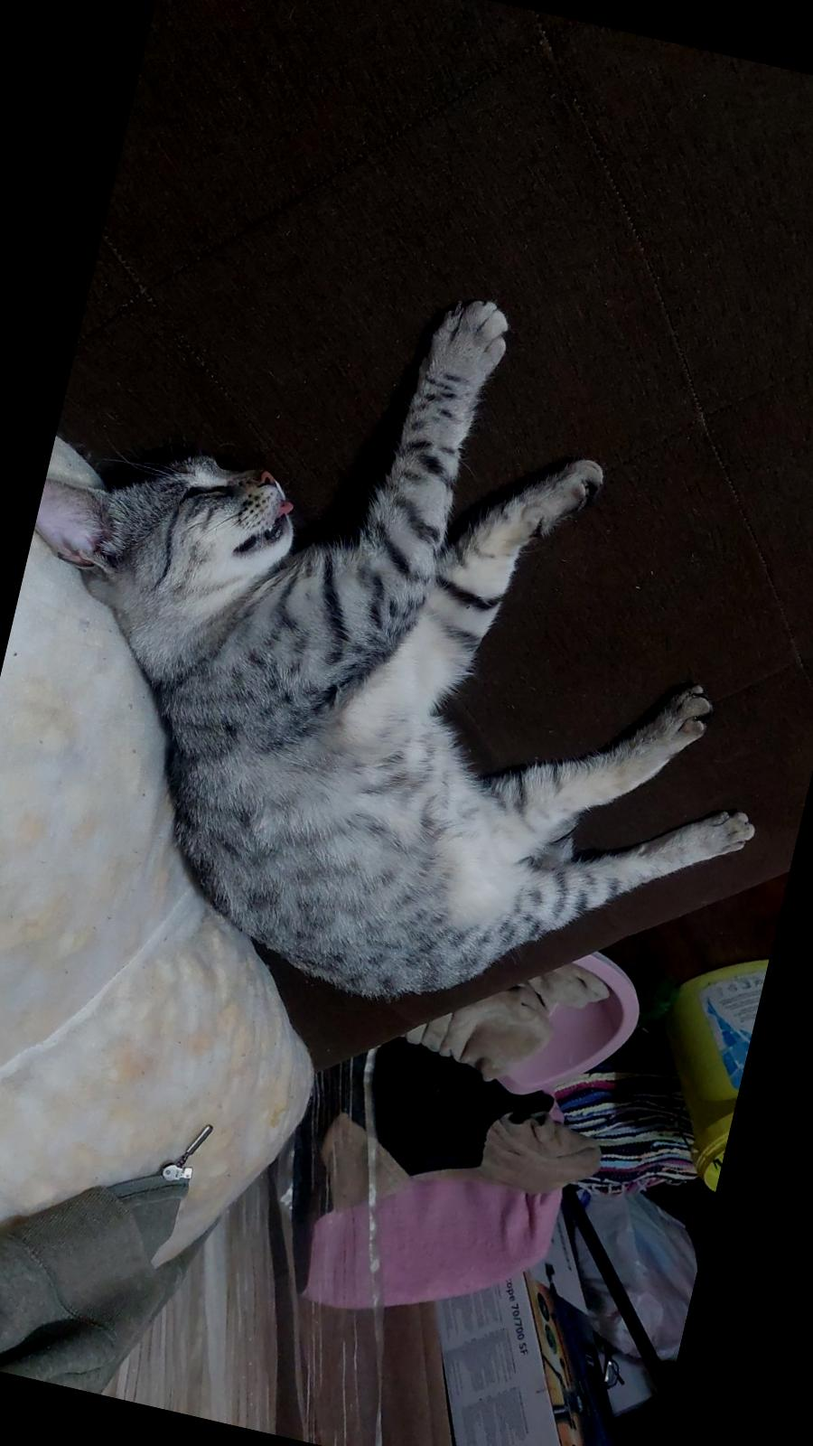macka: (0, 206, 813, 1076)
